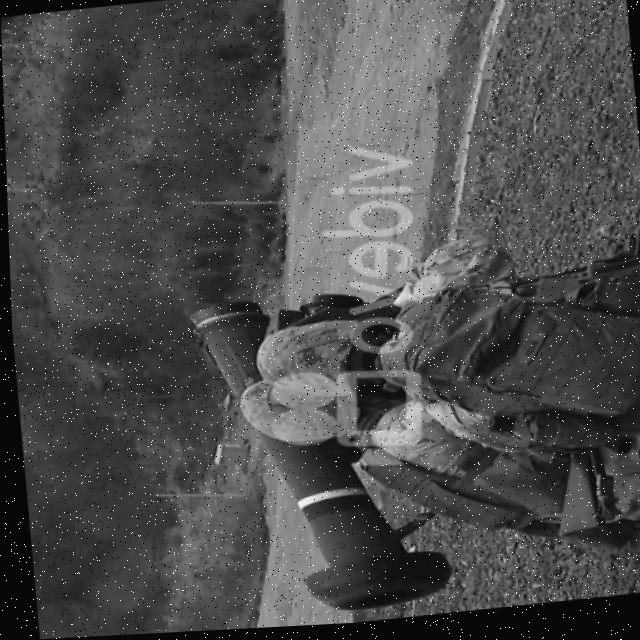rocket: (149, 282, 470, 634)
